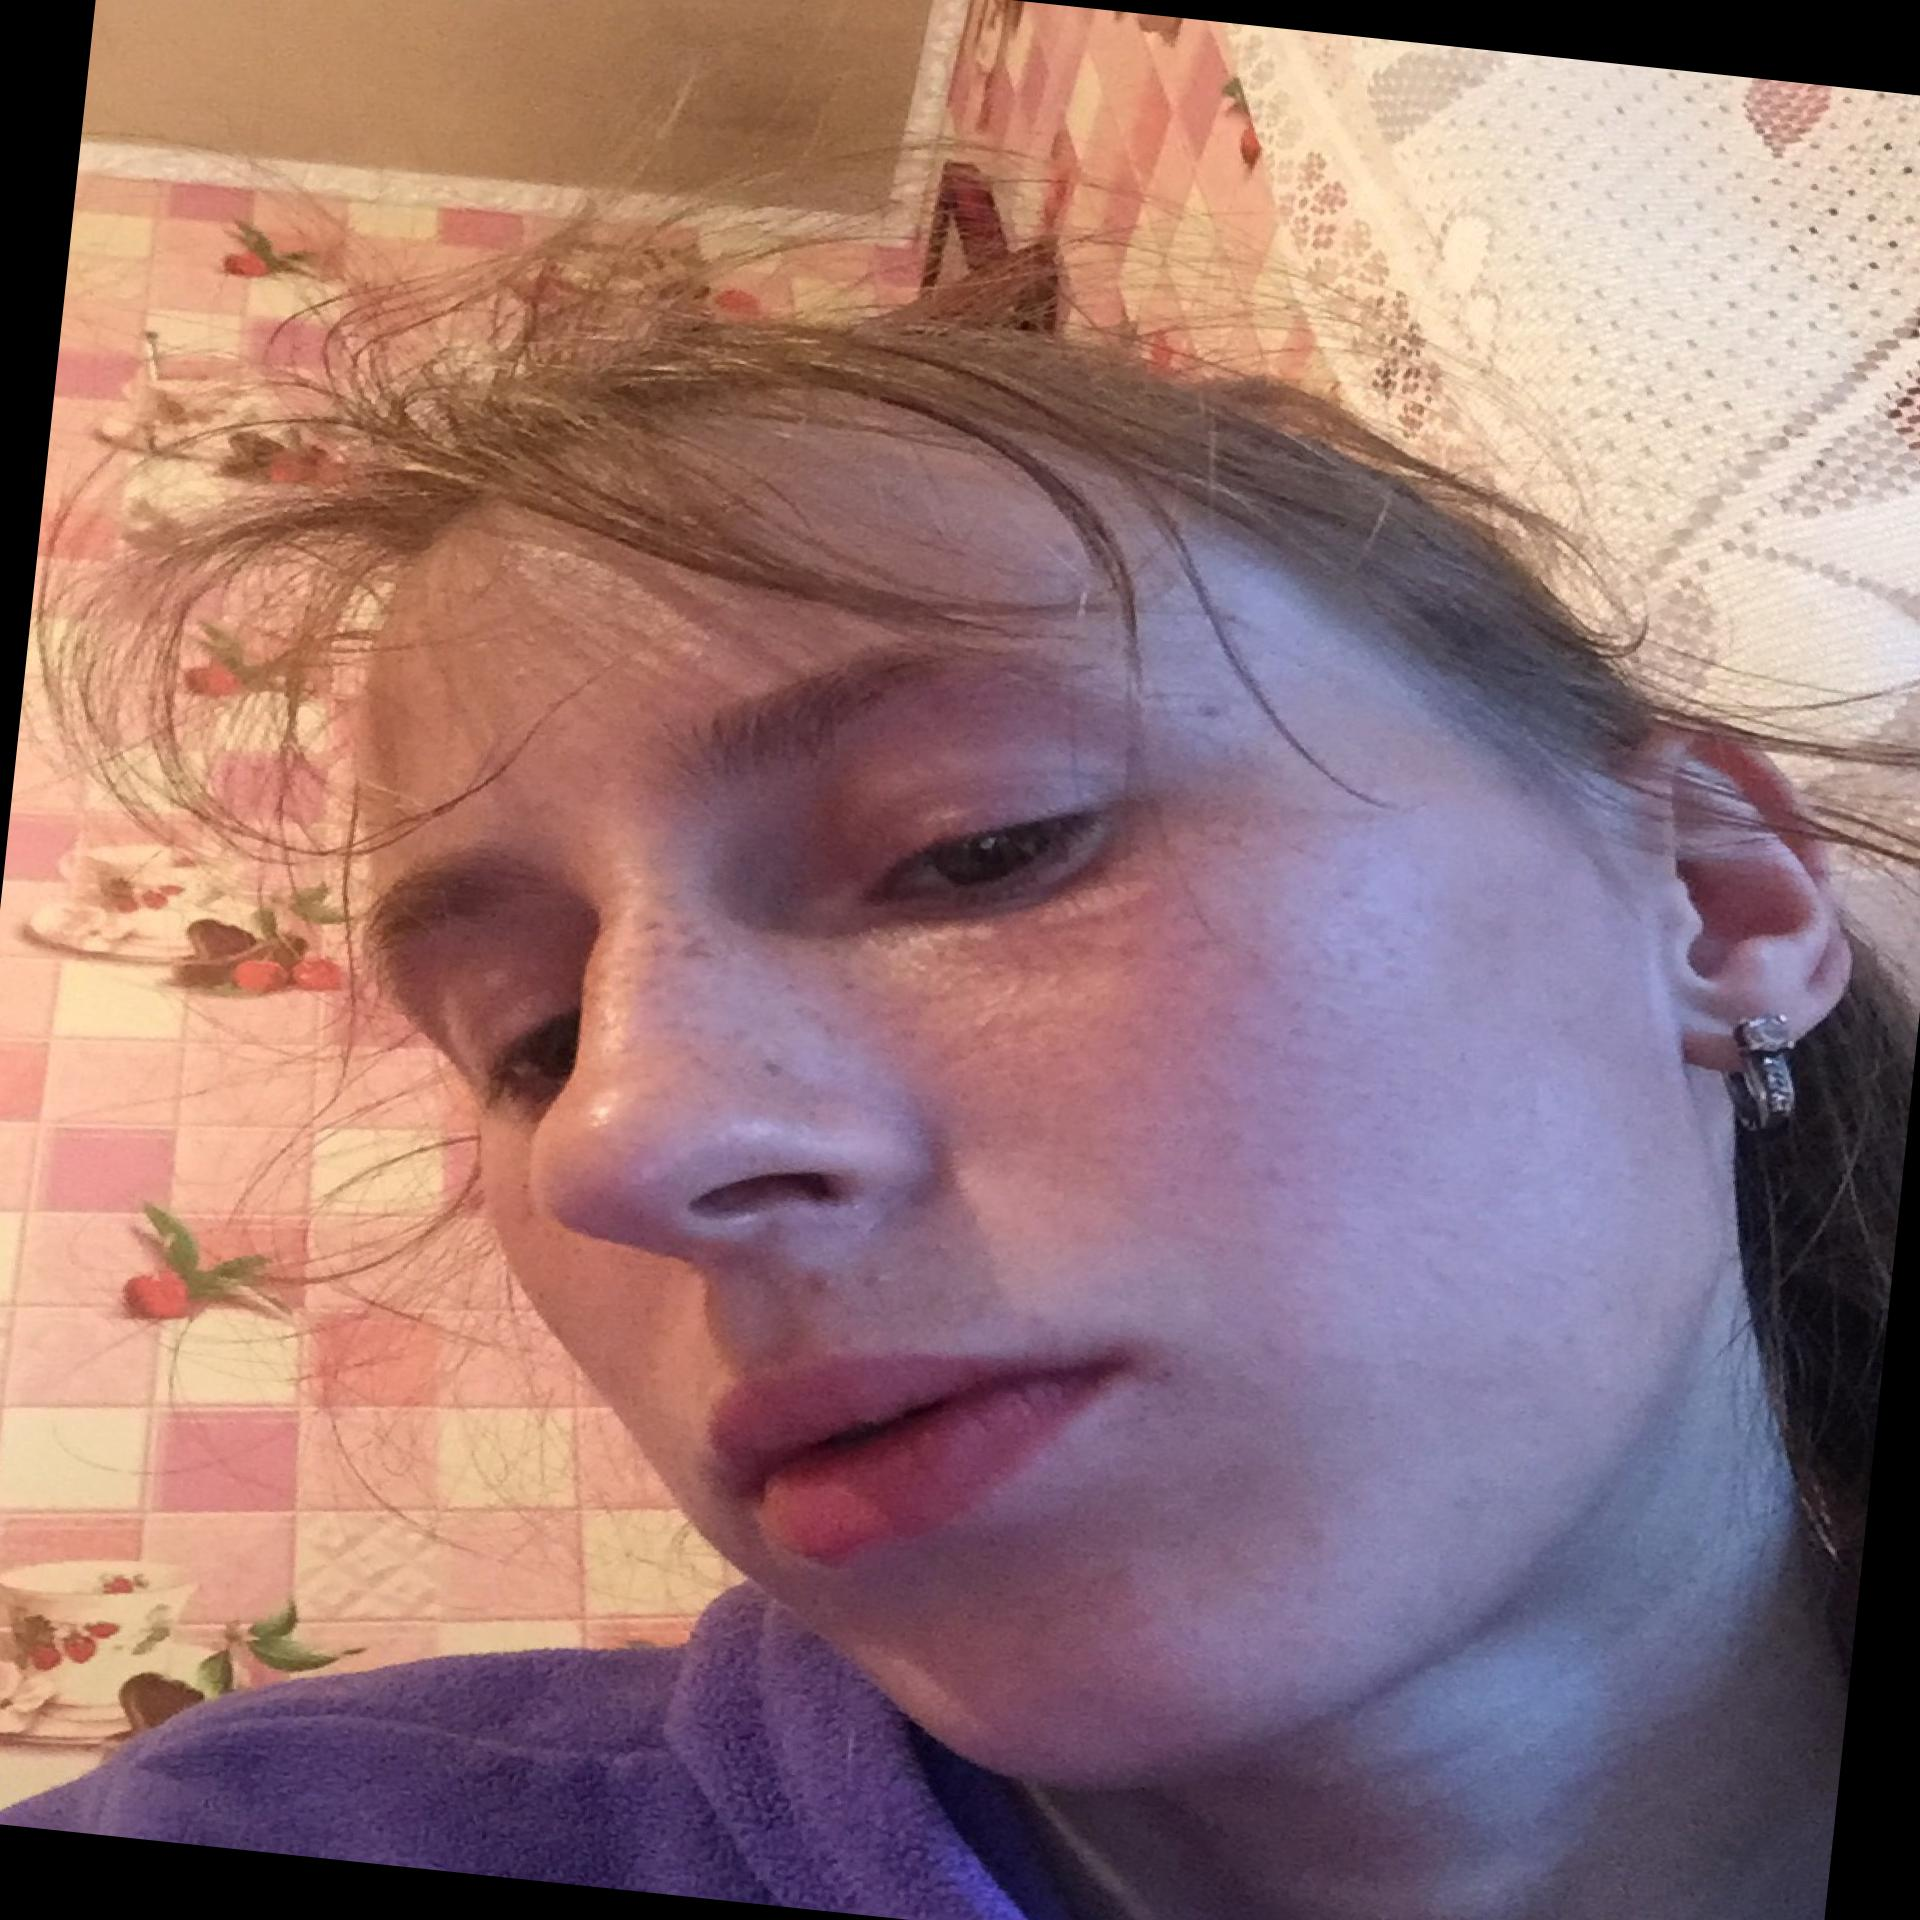Acne: (782, 1247, 905, 1315)
Wrinkles: (1101, 1220, 1315, 1361)
